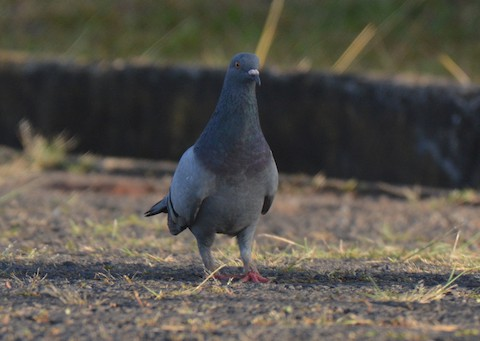pigeon: (139, 49, 281, 284)
